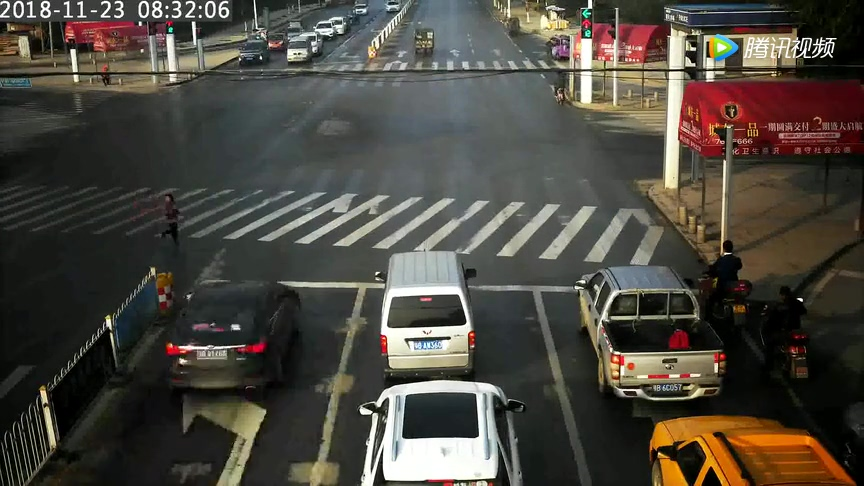car: (549, 237, 738, 419), (154, 264, 310, 400), (343, 379, 531, 486), (366, 247, 513, 377), (236, 34, 272, 80), (280, 31, 322, 66), (410, 20, 439, 70), (349, 1, 380, 20)
person: (692, 224, 754, 347), (151, 190, 187, 257), (543, 64, 577, 112), (97, 54, 114, 92)
